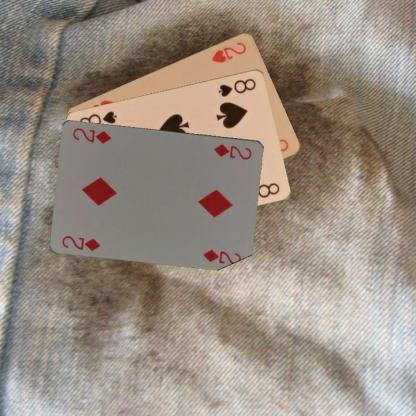2d: (212, 141, 253, 161), (60, 233, 102, 252)
2h: (209, 39, 248, 64)
8s: (216, 75, 257, 98)
